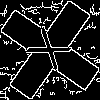X: (25, 25, 82, 79)
